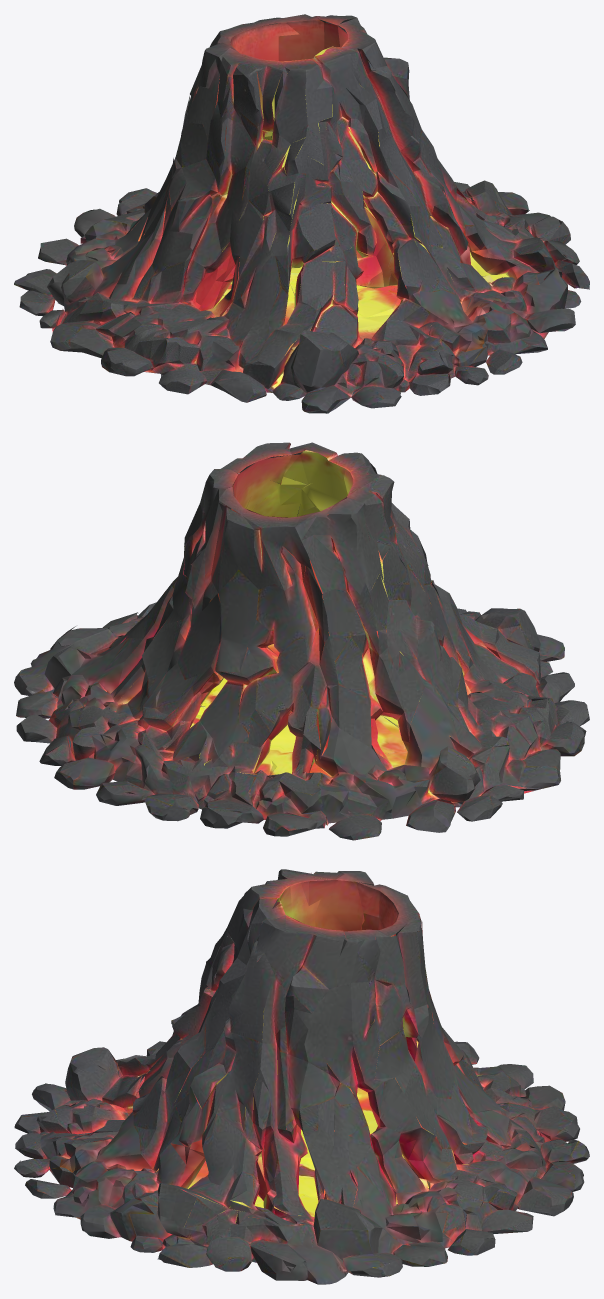
Rendered from fumarola-vulcao.glb.
3 views of the same model, one above another, from view 1: azimuth 30°, elevation 25°; view 2: azimuth 150°, elevation 25°; view 3: azimuth 270°, elevation 25° (orthographic). The views are drawn at different scales.
Parts seen in each view (by area): view 1: fumarola-vulcao; view 2: fumarola-vulcao; view 3: fumarola-vulcao.
Boxes of the visible parts, x1,y1,x2,y2 form: fumarola-vulcao: [14, 14, 589, 413]; fumarola-vulcao: [14, 442, 589, 840]; fumarola-vulcao: [14, 869, 589, 1284].
Bounding box in the file's own units: 5.93 × 2.8 × 5.63.
Materials: 1 (1 with a texture image).
